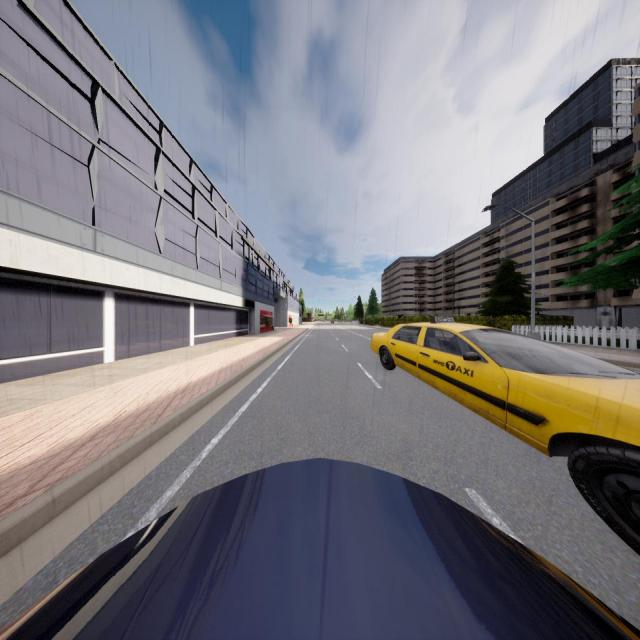Vehicle: (1, 457, 640, 640), (371, 316, 640, 548), (330, 319, 334, 324)
